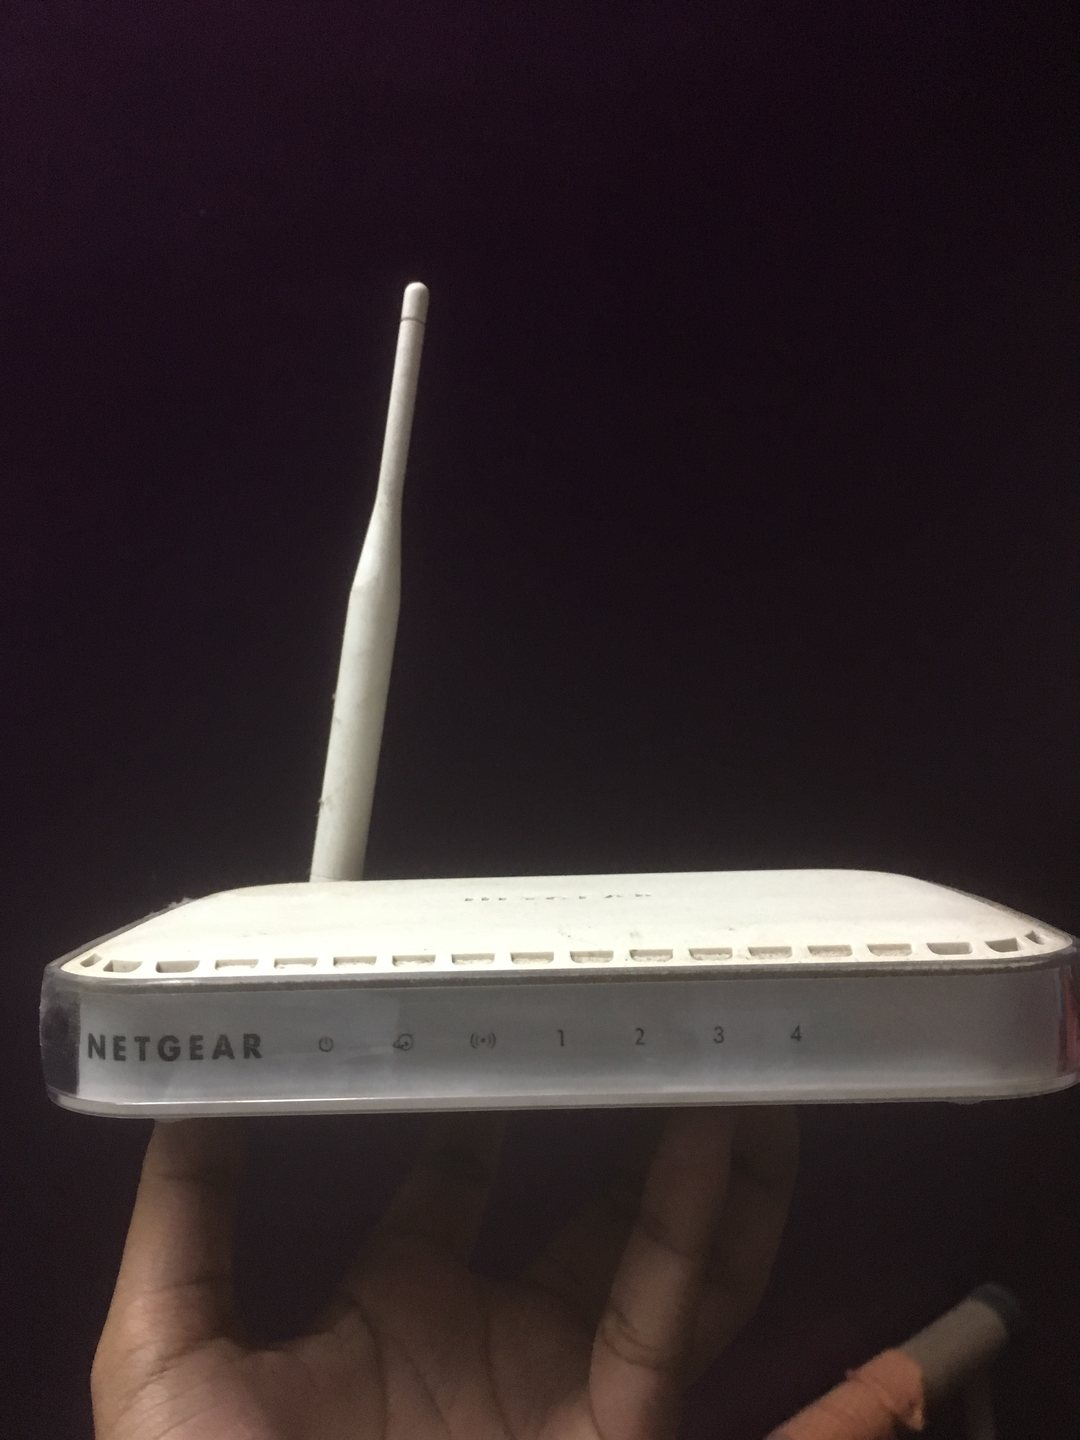NETGEAR: (75, 1025, 271, 1070)
modem: (33, 968, 1080, 1113)
